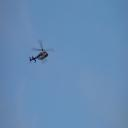helicopter: (30, 40, 55, 66)
